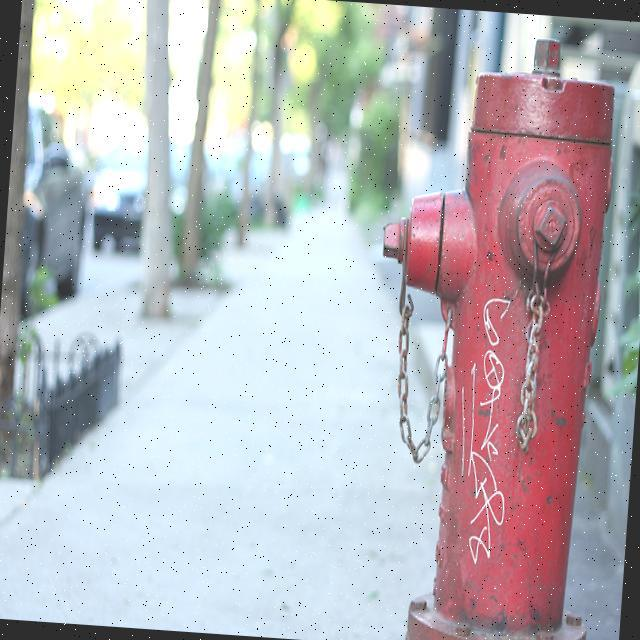fire_hydrant: (354, 30, 626, 640)
